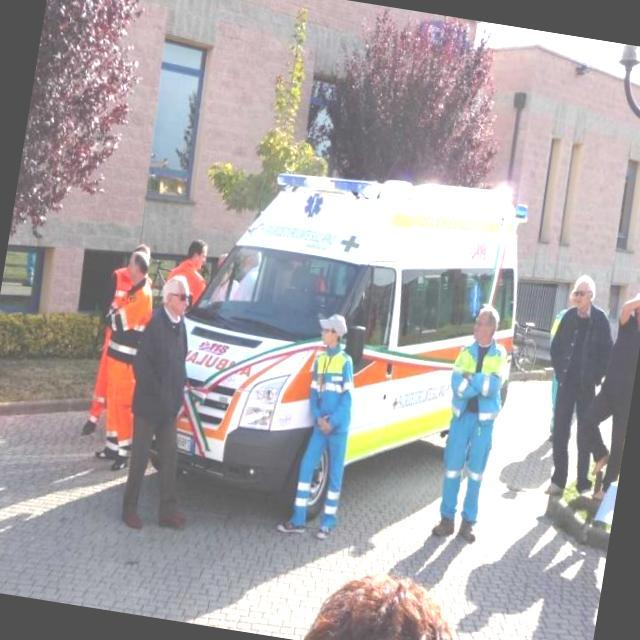emergency-vehicle: (153, 140, 540, 550)
